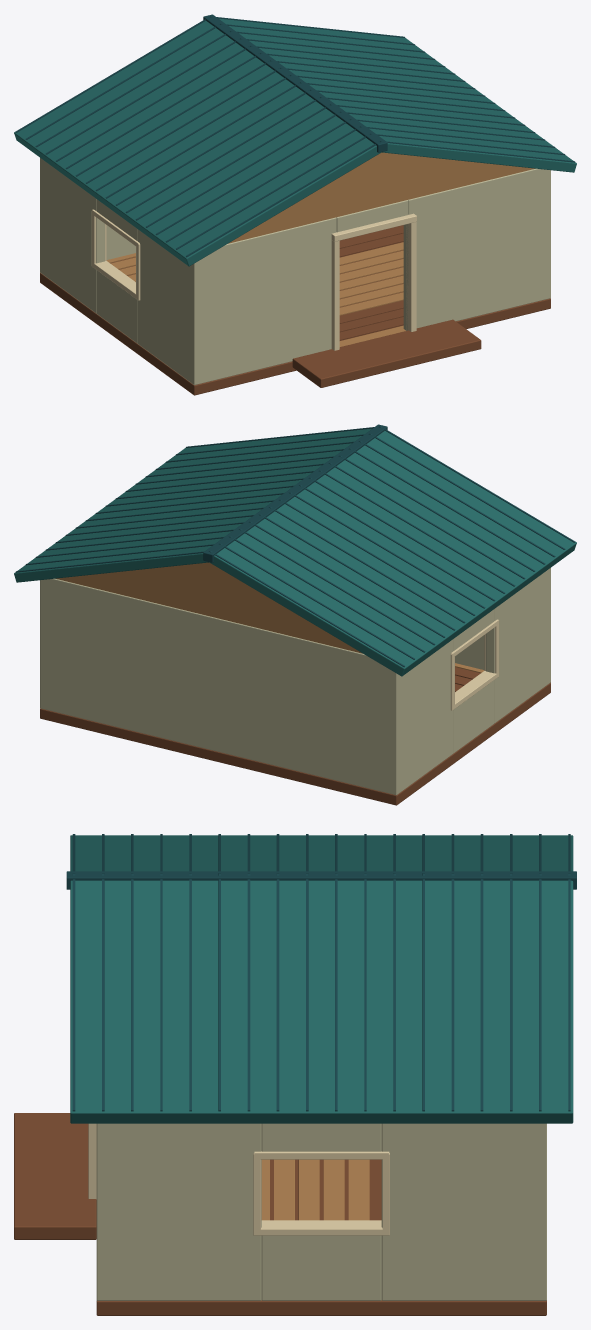
The model's file is home.glb.
3 views of the same model, one above another, from view 1: azimuth 30°, elevation 25°; view 2: azimuth 150°, elevation 25°; view 3: azimuth 270°, elevation 25° (orthographic). The views are drawn at different scales.
Visible parts, largest first — view 1: home; view 2: home; view 3: home.
Boxes of the visible parts, x1=… form: home: x1=14, y1=14, x2=576, y2=395; home: x1=14, y1=424, x2=576, y2=805; home: x1=14, y1=834, x2=576, y2=1315.
Size of the model in its own units: 8.75 by 4.64 by 7.5.
